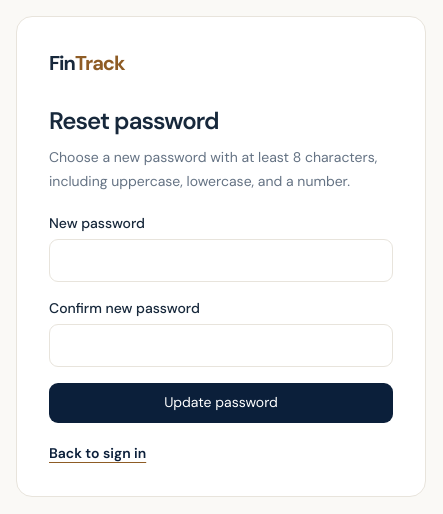
Test: email account actions › updates the password using the reset token and validates matching fields
The width and height of the screenshot is (443, 514).
In the password field labelled "New password": x=221, y=260 top-left (49, 238), bottom-right (393, 282), type "Secure123"
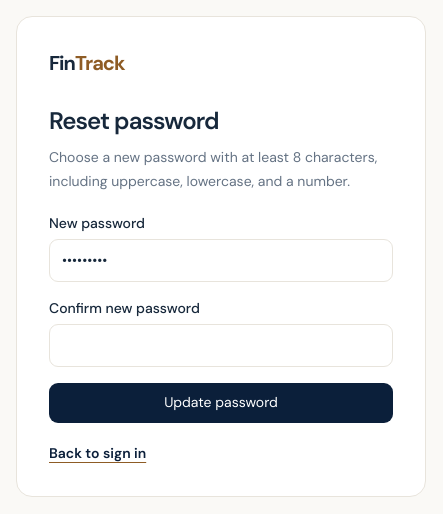
In the password field labelled "Confirm new password": x=221, y=345 top-left (49, 324), bottom-right (393, 366), type "Secure123"
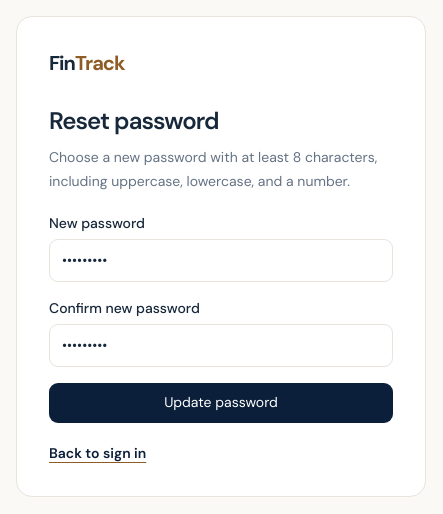
Click the button "Update password": x=221, y=402 top-left (49, 382), bottom-right (393, 422)
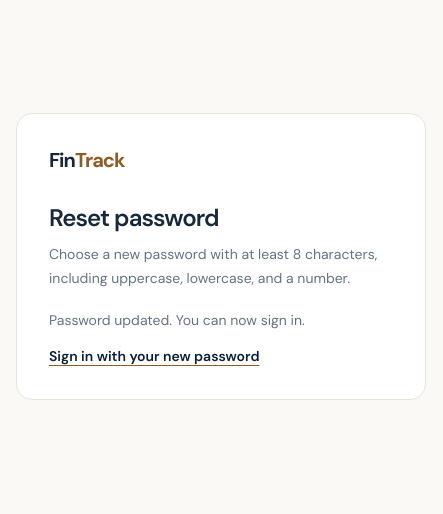
Expected: the text "Password updated. You can now sign in." is shown, top-left (49, 310), bottom-right (305, 328)
